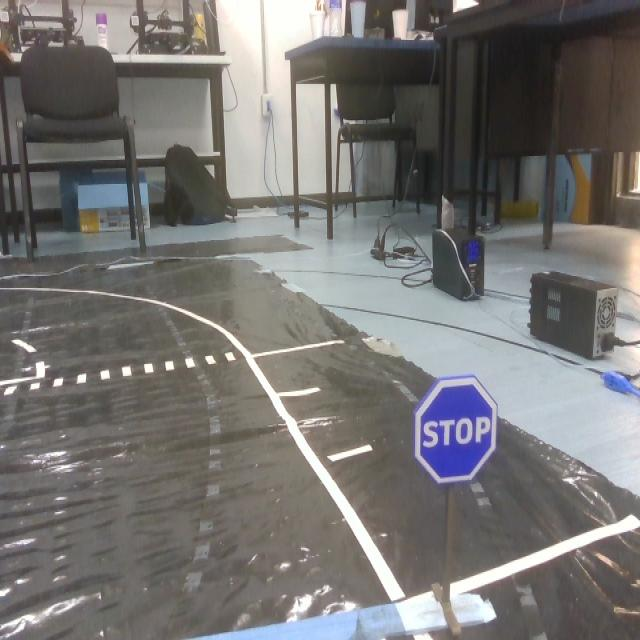no_entry: (424, 374, 502, 489)
